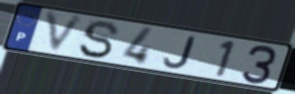1: (213, 40, 239, 79)
3: (238, 43, 279, 85)
4: (119, 25, 156, 67)
J: (162, 35, 197, 70)
S: (76, 19, 122, 60)
V: (43, 9, 88, 56)
